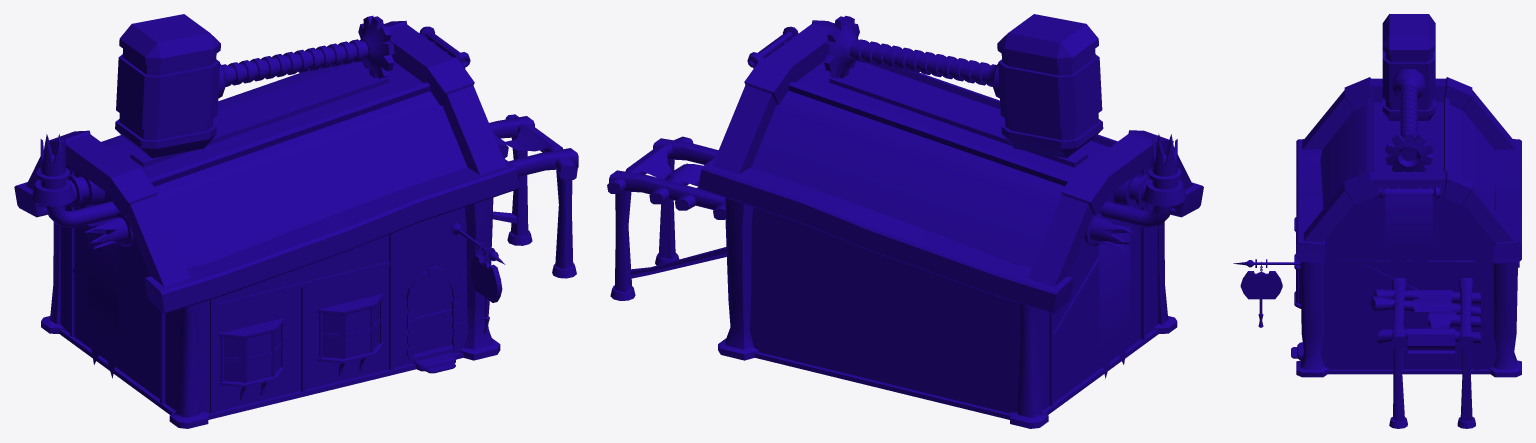
The model's file is CG_Model_TownExt_Smithy_Mar24_ChrisMcknight.FBX.
3 views of the same model, side by side, from view 1: azimuth 30°, elevation 25°; view 2: azimuth 150°, elevation 25°; view 3: azimuth 270°, elevation 25° (orthographic). The views are drawn at different scales.
Parts seen in each view (by area): view 1: Smith; view 2: Smith; view 3: Smith.
Boxes of the visible parts, x1,y1,x2,y2 form: Smith: [14, 14, 578, 428]; Smith: [607, 14, 1203, 428]; Smith: [1233, 14, 1521, 428].
Bounding box in the file's own units: 251 × 150 × 154.
